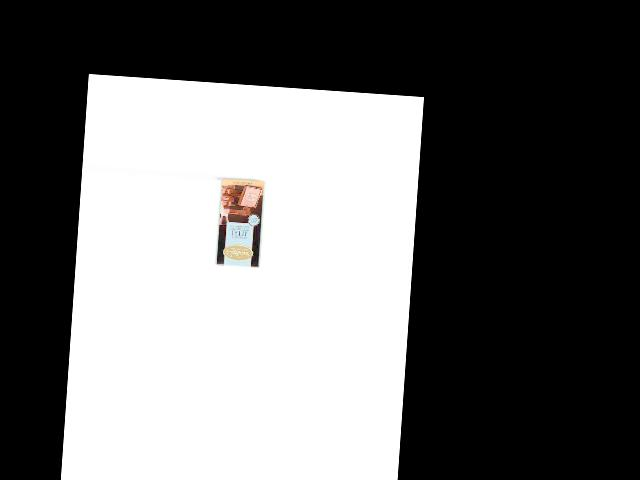chocolate: (213, 176, 266, 268)
